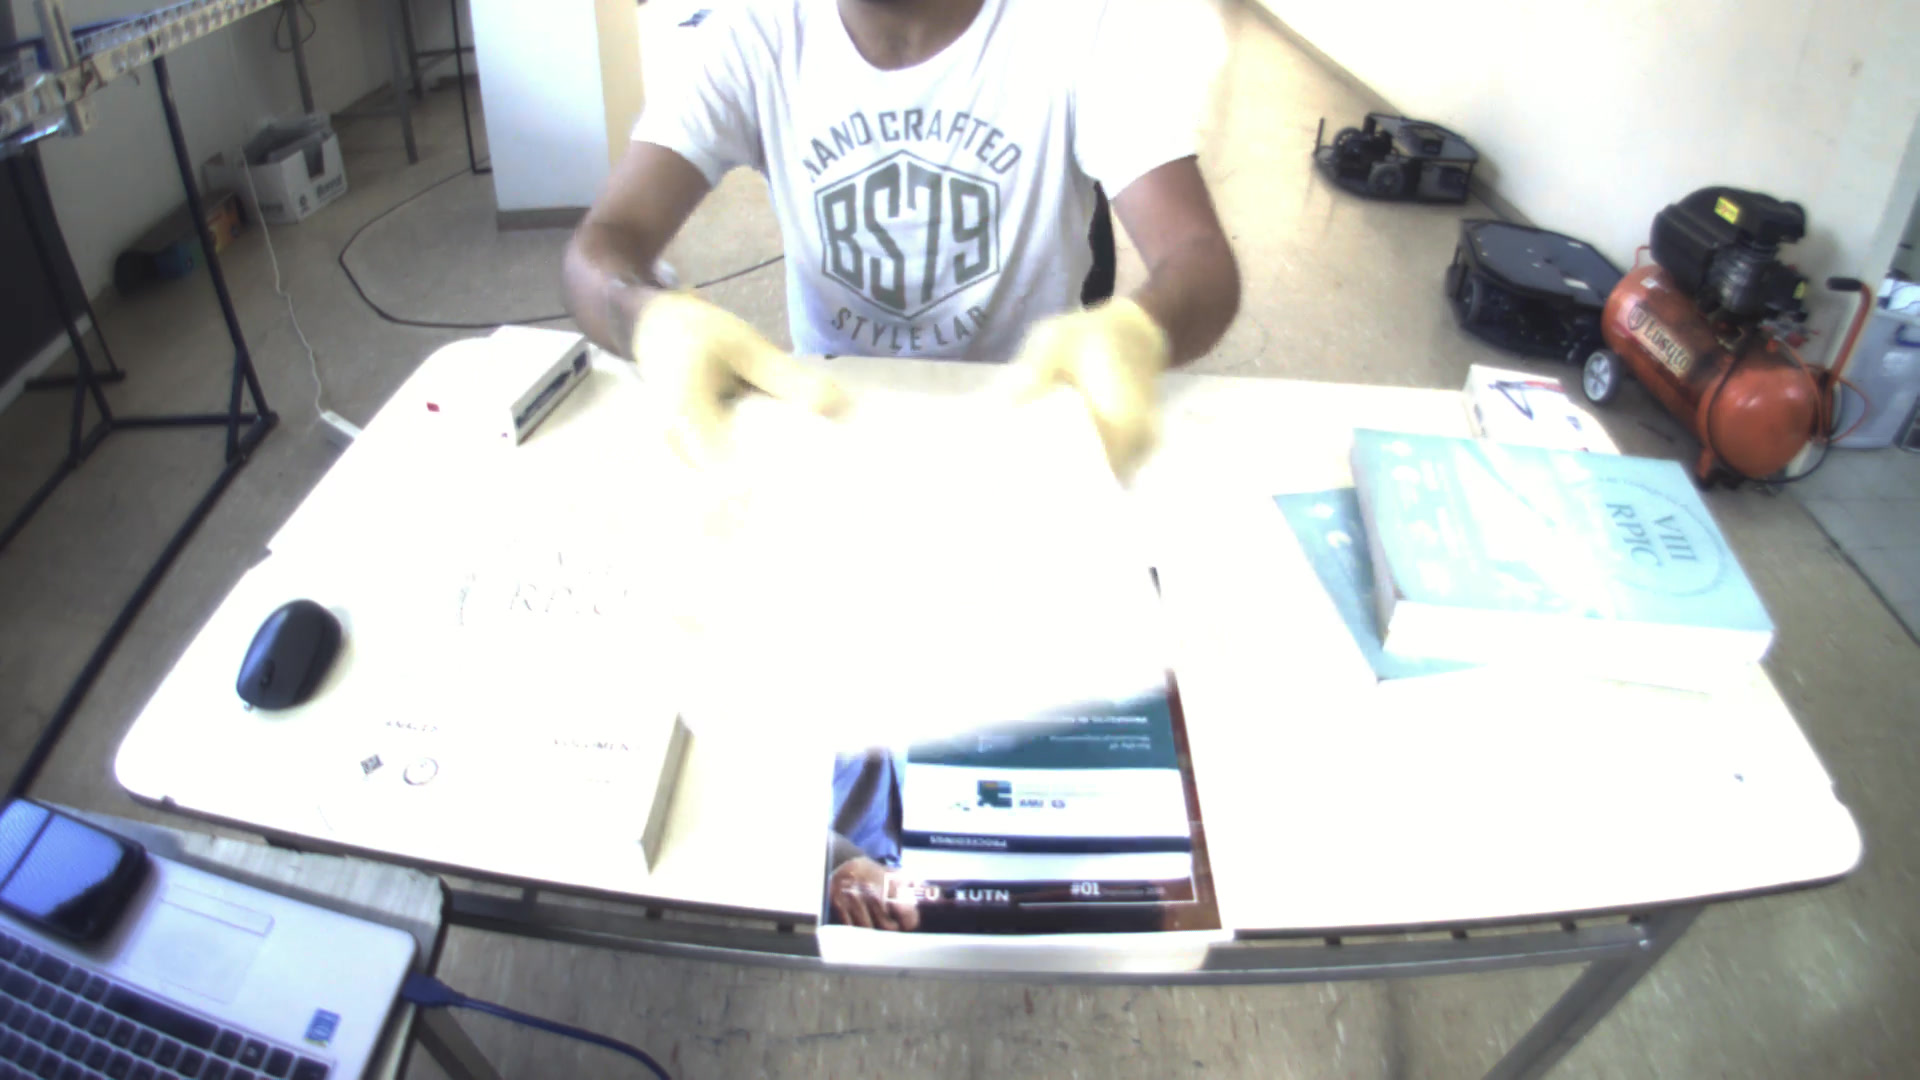hand: (624, 276, 848, 473), (1005, 280, 1185, 454)
